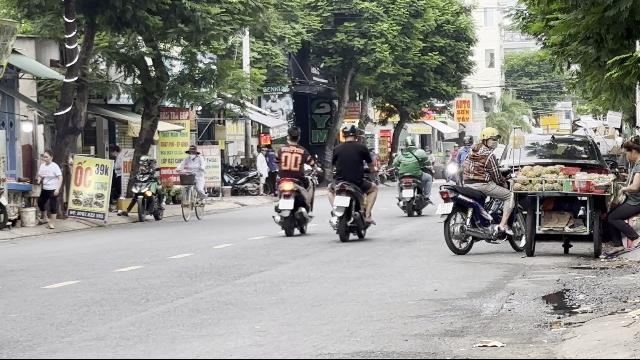helmet: (480, 126, 500, 148), (341, 123, 359, 141), (138, 155, 150, 169)
licenseplate: (334, 196, 351, 206), (437, 202, 453, 212), (279, 200, 293, 208)
motorcyclist: (437, 124, 523, 256), (324, 122, 378, 241), (272, 127, 316, 235), (126, 155, 166, 223)
nohelmet: (286, 127, 300, 145)
